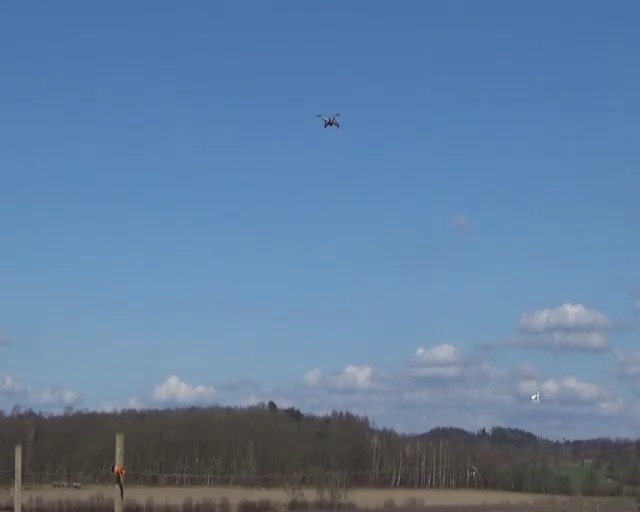DRONE: (316, 112, 341, 129)
